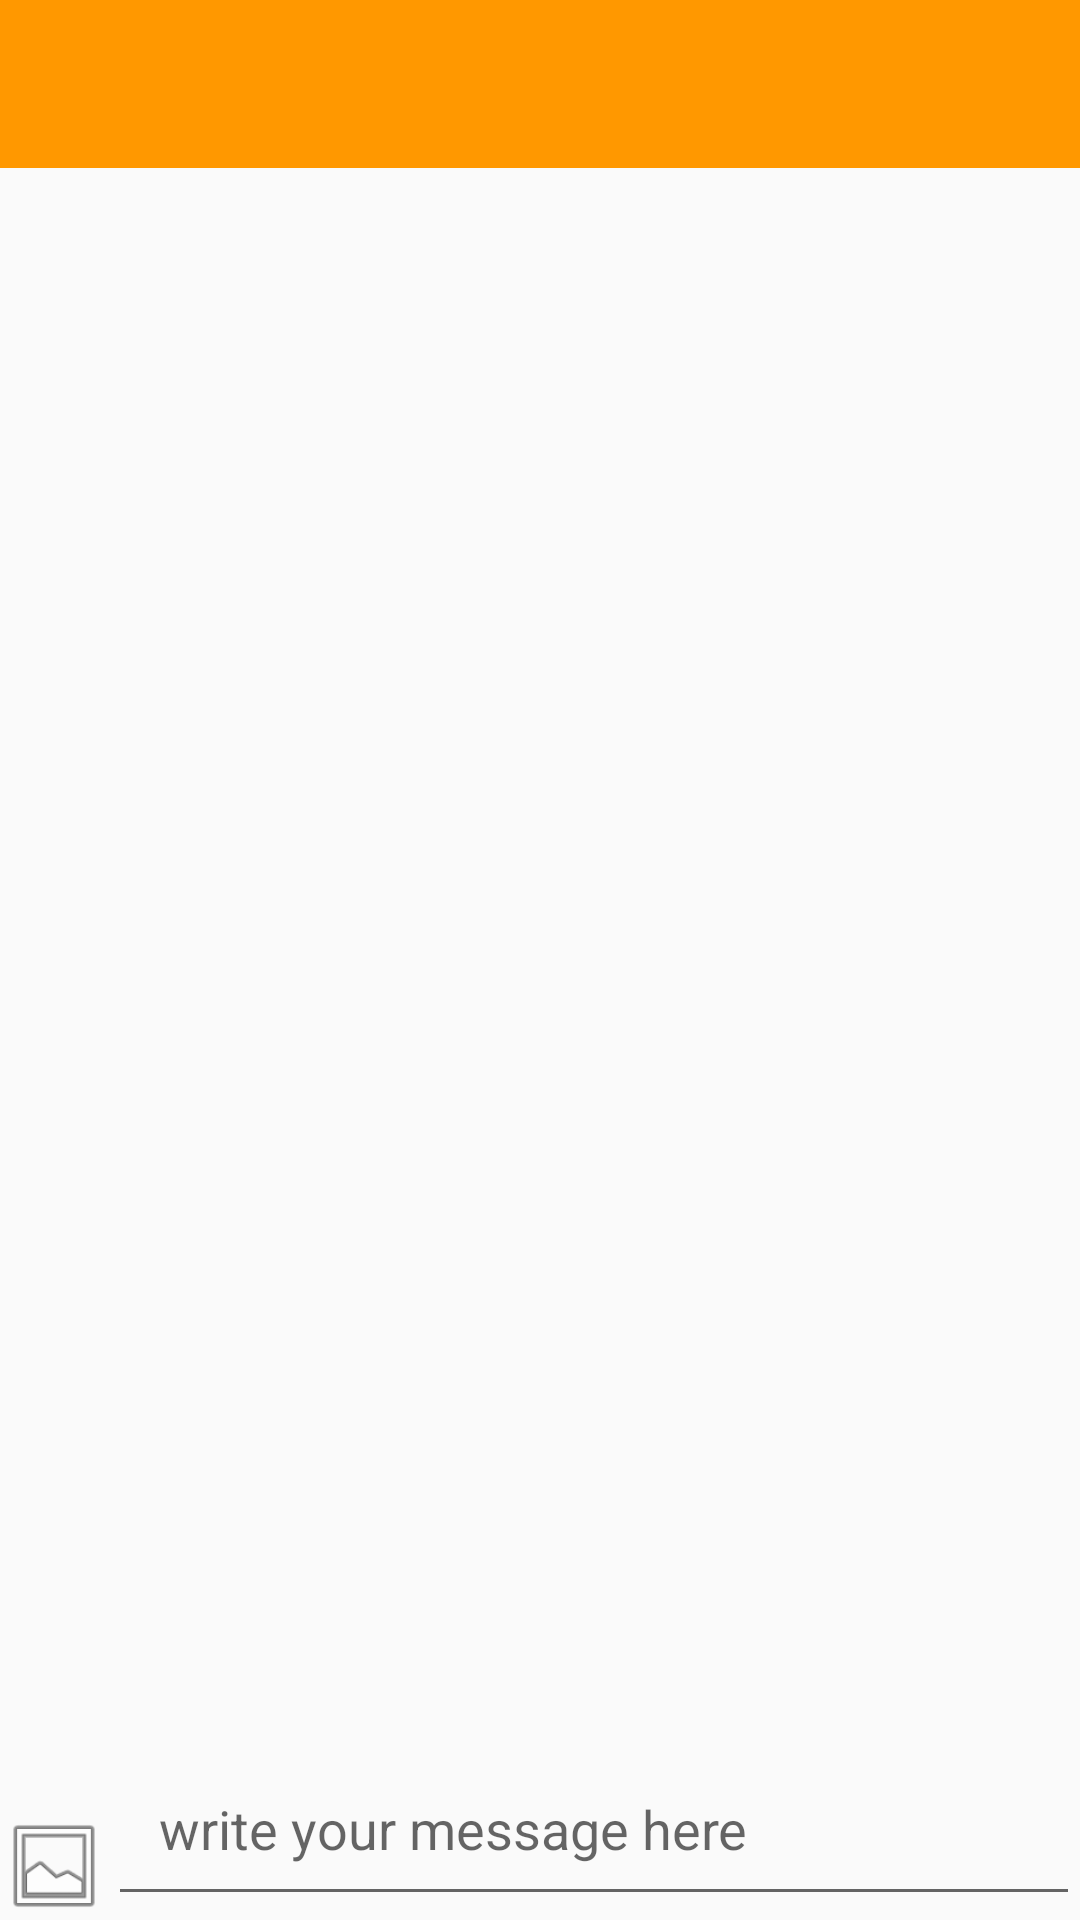

Icons on this 1080×1920 Android screen, each with the point to tap as [x,y]:
gallery: [54,1866]
